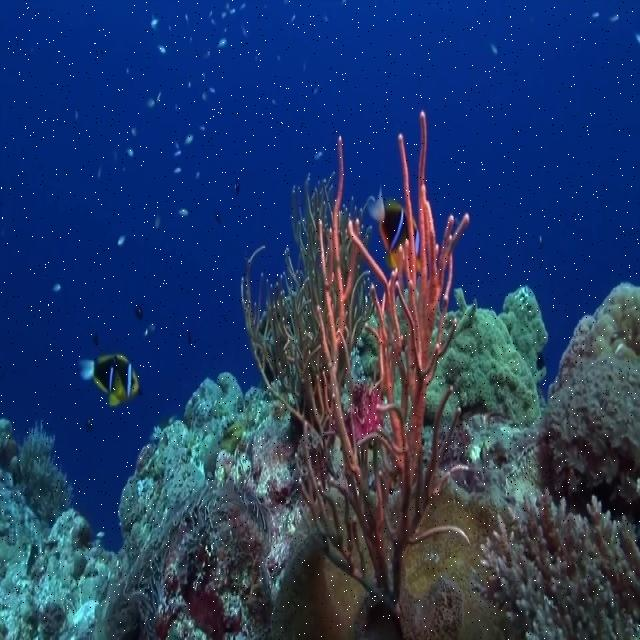aquatic plants: (240, 111, 471, 639)
fish: (366, 191, 423, 278), (78, 355, 142, 404)
reefs: (471, 482, 639, 639)
sea-floor: (0, 282, 639, 639)
